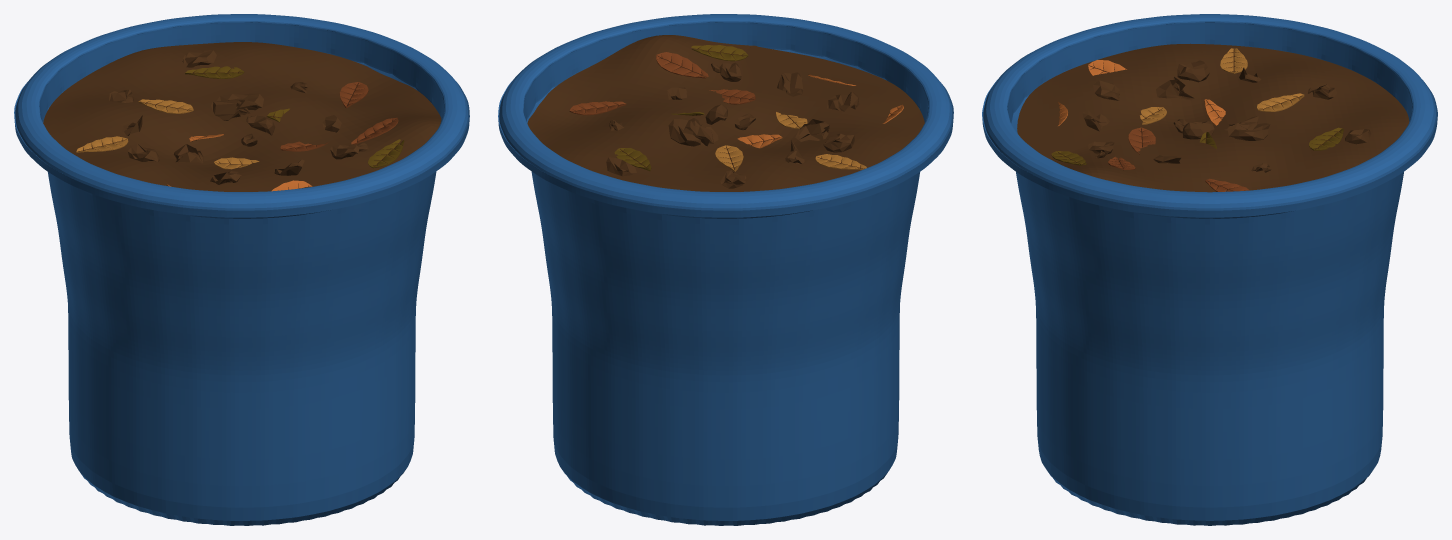
The model's file is Daun Kering Kompos.fbx.
3 views of the same model, side by side, from view 1: azimuth 30°, elevation 25°; view 2: azimuth 150°, elevation 25°; view 3: azimuth 270°, elevation 25° (orthographic).
Parts seen in each view (by area): view 1: Ember, Tanah, Daun 4, Daun2, Daun, Batu.004; view 2: Ember, Tanah, Daun2, Daun 4, Daun, Daun3, Batu.014, Batu.002; view 3: Ember, Tanah, Daun 4, Daun2, Daun, Daun3, Batu.014, Batu.001.
Boxes of the visible parts, x1,y1,x2,y2 form: Ember: [14, 14, 469, 525]; Tanah: [43, 42, 441, 191]; Daun 4: [76, 99, 259, 169]; Daun2: [280, 82, 398, 151]; Daun: [185, 66, 404, 168]; Batu.004: [211, 98, 250, 120]; Ember: [498, 14, 953, 525]; Tanah: [527, 35, 924, 191]; Daun2: [569, 52, 755, 115]; Daun 4: [715, 112, 866, 171]; Daun: [614, 45, 748, 171]; Daun3: [737, 74, 903, 148]; Batu.014: [668, 118, 701, 146]; Batu.002: [795, 119, 829, 141]; Ember: [982, 14, 1437, 525]; Tanah: [1017, 43, 1409, 192]; Daun 4: [1140, 48, 1304, 124]; Daun2: [1108, 127, 1249, 191]; Daun: [1051, 127, 1343, 165]; Daun3: [1058, 60, 1225, 125]; Batu.014: [1227, 123, 1270, 140]; Batu.001: [1177, 60, 1209, 82].
Size of the model in its own units: 224 by 192 by 224.
